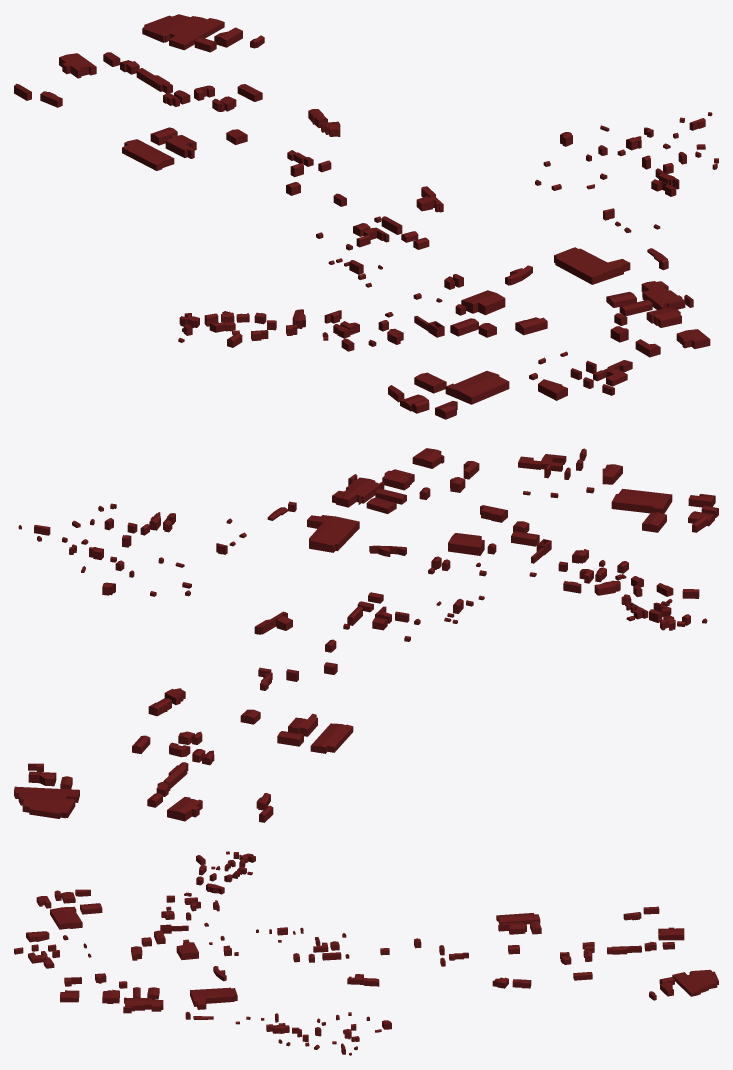
File: red_buildings_Laura.fbx
3 renders of one model, top to bottom at view 1: azimuth 30°, elevation 25°; view 2: azimuth 150°, elevation 25°; view 3: azimuth 270°, elevation 25°, orthographic. The views are drawn at different scales.
Visible parts, largest first — view 1: buildings commercial; view 2: buildings commercial; view 3: buildings commercial.
Boxes of the visible parts, <box> form: buildings commercial: <box>14,14,718,419</box>; buildings commercial: <box>14,448,718,822</box>; buildings commercial: <box>14,851,718,1055</box>.
Bounding box in the file's own units: 1534 × 86.08 × 2174.
